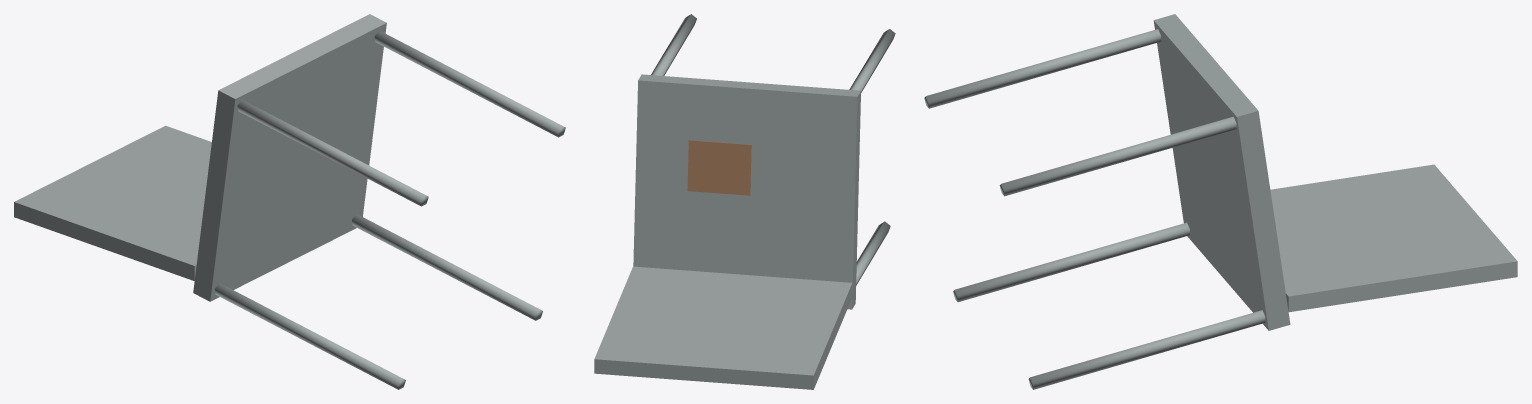
Rendered from prop_debris_chair.fbx.
3 renders of one model, left to right at view 1: azimuth 30°, elevation 25°; view 2: azimuth 150°, elevation 25°; view 3: azimuth 270°, elevation 25°, orthographic. The views are drawn at different scales.
Visible parts, largest first — view 1: prop_debris_chair; view 2: prop_debris_chair; view 3: prop_debris_chair.
Boxes of the visible parts, x1=… form: prop_debris_chair: x1=14, y1=14, x2=565, y2=389; prop_debris_chair: x1=594, y1=14, x2=895, y2=389; prop_debris_chair: x1=924, y1=14, x2=1517, y2=389.
Bounding box in the file's own units: 0.7075 × 0.4711 × 1.02.
